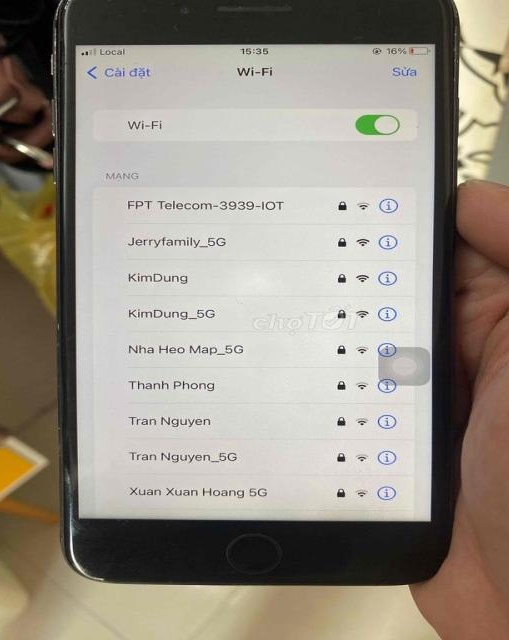scratch: (62, 461, 103, 583), (446, 15, 461, 105), (57, 0, 79, 20)
